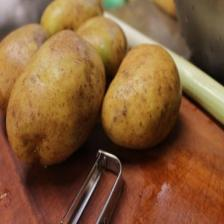Potato: (5, 28, 106, 163), (100, 41, 183, 150), (0, 20, 48, 106), (73, 15, 129, 75), (39, 0, 109, 41)
